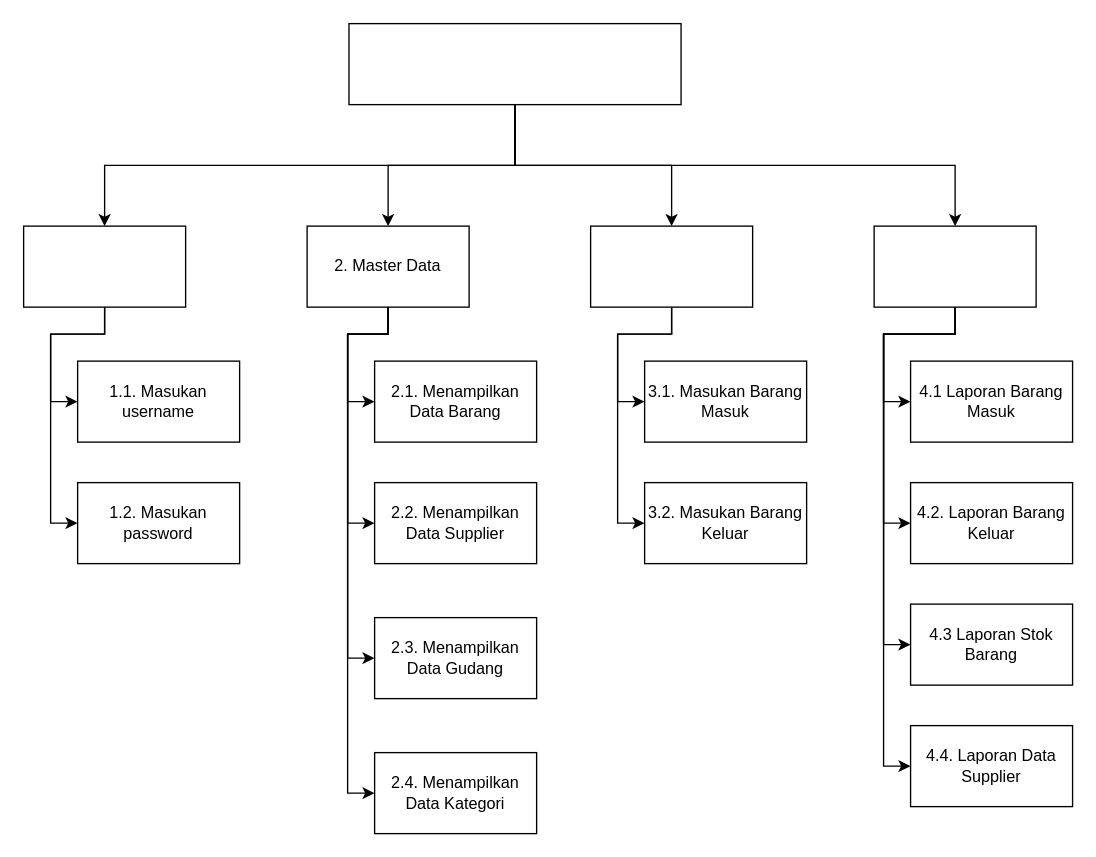
This 1096x857 diagram has some shape labels left out. Here are the shapes that lost their labels. From the top down, the centre of each, then its label:
At point (514, 63): "Sistem Monitoring Barang Habis Pakai".
At point (104, 266): "1. Proses Login".
At point (671, 266): "3. Transaksi Barang".
At point (954, 266): "4. Pelaporan".
